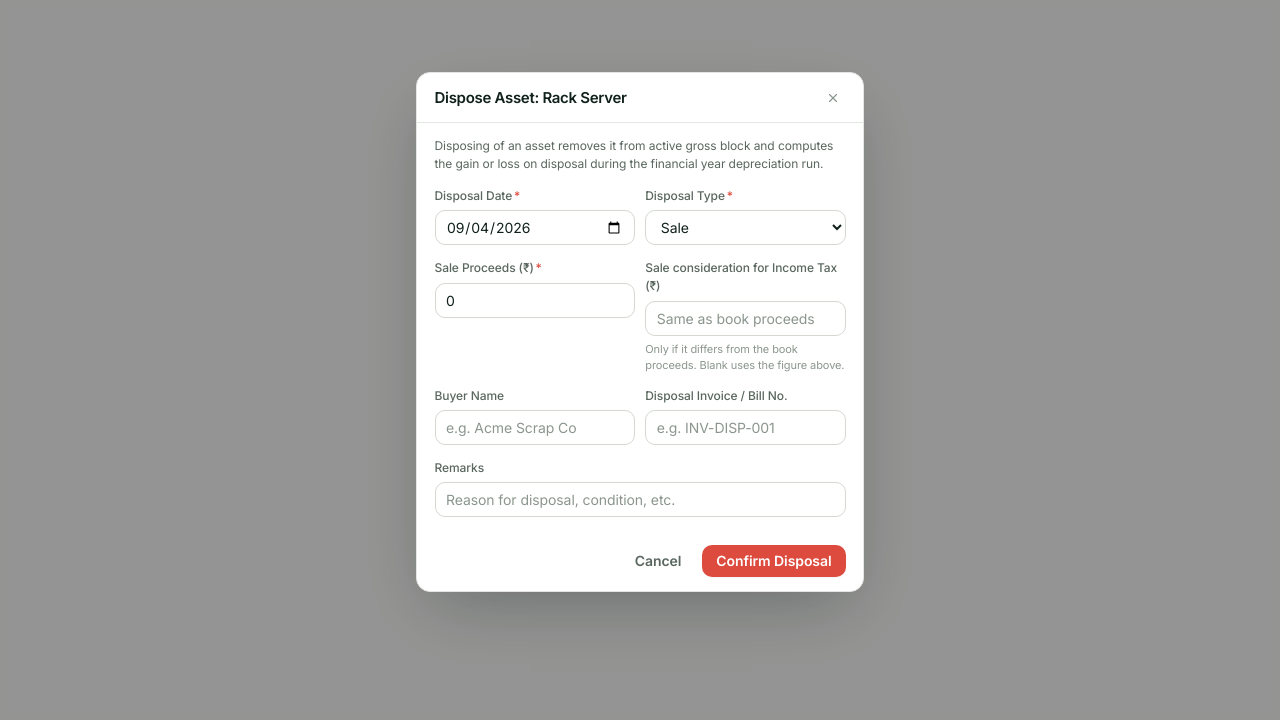
it: AssetDisposalModal — server refusal handling › keeps the form open for a recoverable validation error
Click the button "Confirm Disposal". click: (774, 561)
box: [702,545,846,577]
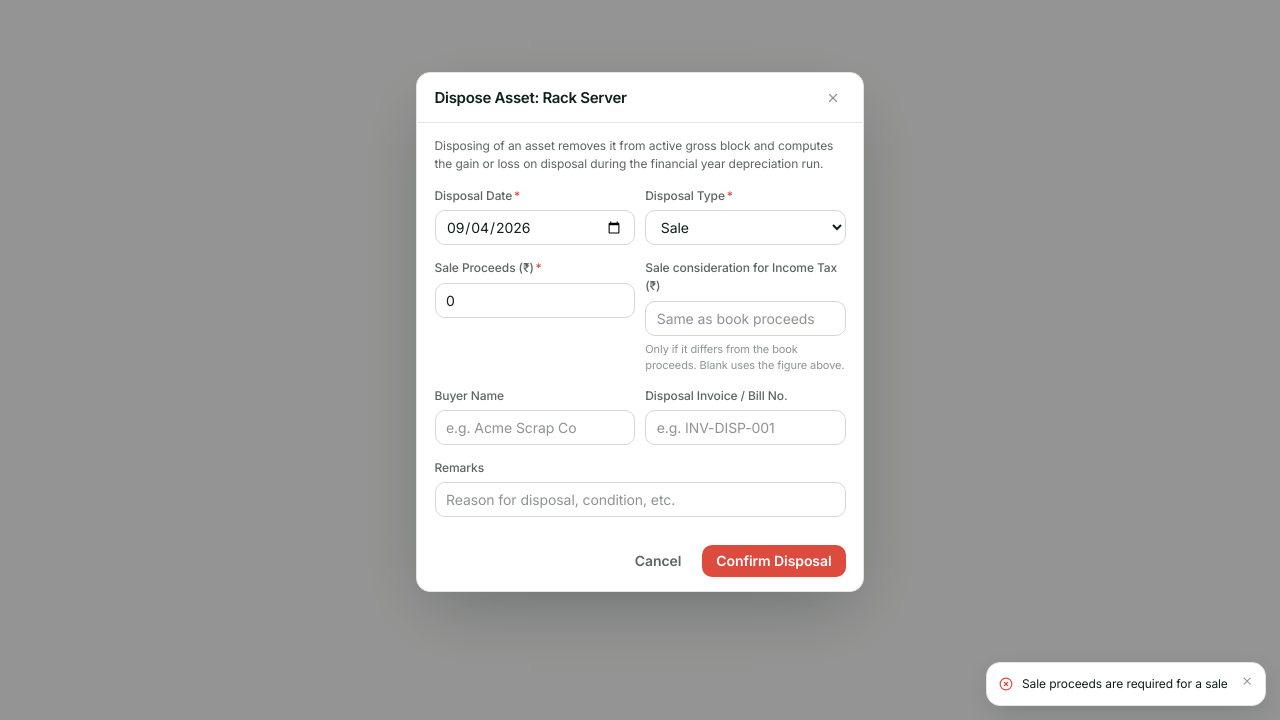
Expected: the text "Sale proceeds are required for a sale" is shown, [1022,675,1232,693]
